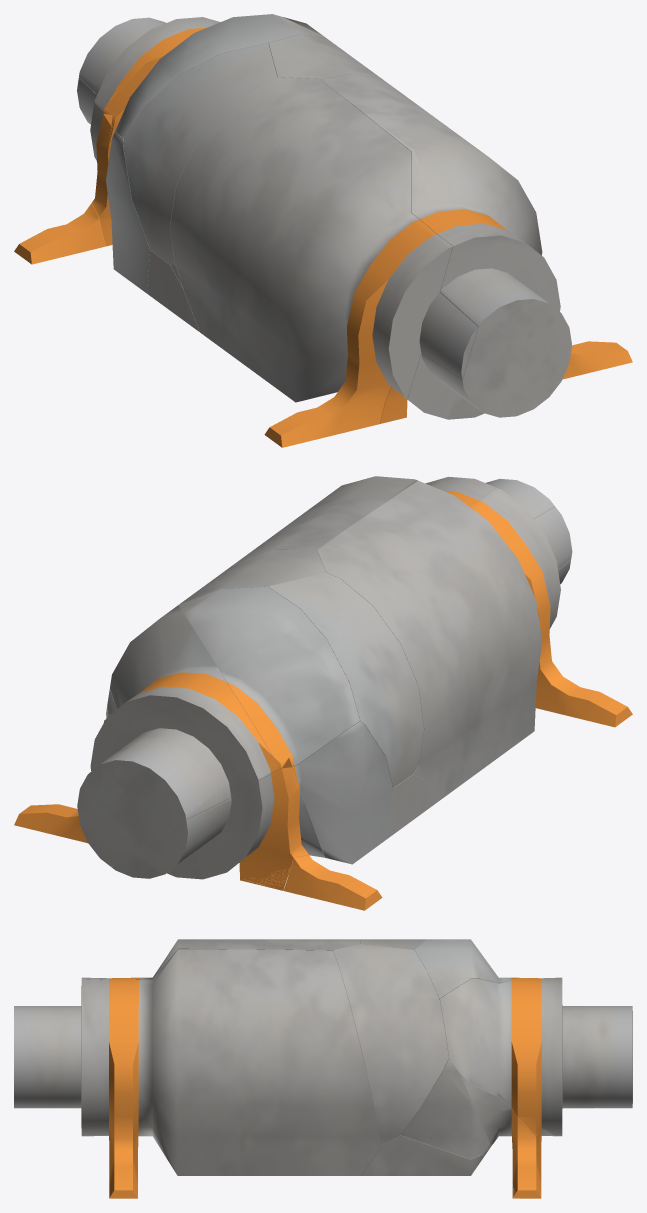
Rendered from Broke_Science_Section.fbx.
3 renders of one model, top to bottom at view 1: azimuth 30°, elevation 25°; view 2: azimuth 150°, elevation 25°; view 3: azimuth 270°, elevation 25°, orthographic. The views are drawn at different scales.
Visible parts, largest first — view 1: Science_section16, Science_section14, Science_section15, Science_section10, Science_section11, Science_section6, Science_section9, Science_section2, Science_section7, Science_section5; view 2: Science_section16, Science_section11, Science_section10, Science_section7, Science_section15, Science_section6, Science_section14, Science_section9, Science_section2, Science_section13, Science_section5; view 3: Science_section14, Science_section11, Science_section9, Science_section4, Science_section13, Science_section3, Science_section10, Science_section16, Science_section15.
Boxes of the visible parts, x1=… form: Science_section16: x1=170, y1=77, x2=477, y2=447; Science_section14: x1=320, y1=73, x2=632, y2=423; Science_section15: x1=123, y1=43, x2=277, y2=264; Science_section10: x1=103, y1=14, x2=325, y2=138; Science_section11: x1=79, y1=17, x2=324, y2=110; Science_section6: x1=106, y1=127, x2=150, y2=293; Science_section9: x1=268, y1=34, x2=382, y2=79; Science_section2: x1=14, y1=203, x2=105, y2=264; Science_section7: x1=77, y1=77, x2=115, y2=246; Science_section5: x1=147, y1=250, x2=199, y2=331; Science_section16: x1=317, y1=481, x2=632, y2=800; Science_section11: x1=77, y1=605, x2=279, y2=866; Science_section10: x1=178, y1=586, x2=360, y2=768; Science_section7: x1=111, y1=758, x2=324, y2=890; Science_section15: x1=268, y1=572, x2=423, y2=788; Science_section6: x1=292, y1=721, x2=393, y2=864; Science_section14: x1=236, y1=476, x2=570, y2=583; Science_section9: x1=178, y1=549, x2=325, y2=606; Science_section2: x1=283, y1=855, x2=382, y2=910; Science_section13: x1=14, y1=689, x2=116, y2=843; Science_section5: x1=386, y1=774, x2=438, y2=839; Science_section14: x1=14, y1=948, x2=380, y2=1198; Science_section11: x1=440, y1=977, x2=632, y2=1135; Science_section9: x1=333, y1=943, x2=448, y2=1145; Science_section4: x1=401, y1=1057, x2=518, y2=1198; Science_section13: x1=457, y1=1070, x2=557, y2=1198; Science_section3: x1=361, y1=1135, x2=515, y2=1198; Science_section10: x1=414, y1=939, x2=516, y2=999; Science_section16: x1=81, y1=939, x2=361, y2=979; Science_section15: x1=360, y1=939, x2=425, y2=949.
Bounding box in the file's own units: 27.84 × 16.96 × 52.85.
1 material, 1 textured.
